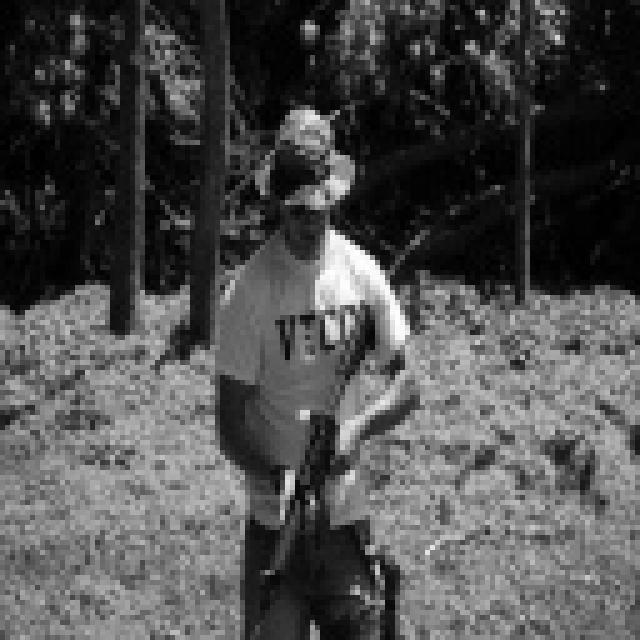Rifle: (230, 390, 365, 640)
